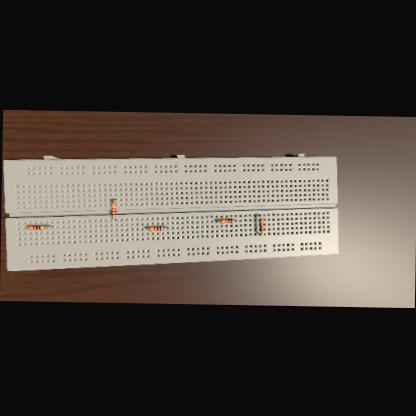breadboard: (0, 147, 340, 276)
resistor: (26, 224, 43, 230), (109, 202, 115, 216), (148, 226, 162, 231), (218, 218, 232, 223), (257, 218, 262, 230)
wire: (42, 225, 51, 226), (113, 216, 116, 219), (162, 226, 166, 228), (214, 219, 218, 221), (258, 214, 260, 218), (258, 232, 261, 234), (112, 200, 114, 202), (144, 228, 146, 229), (233, 219, 235, 220)
